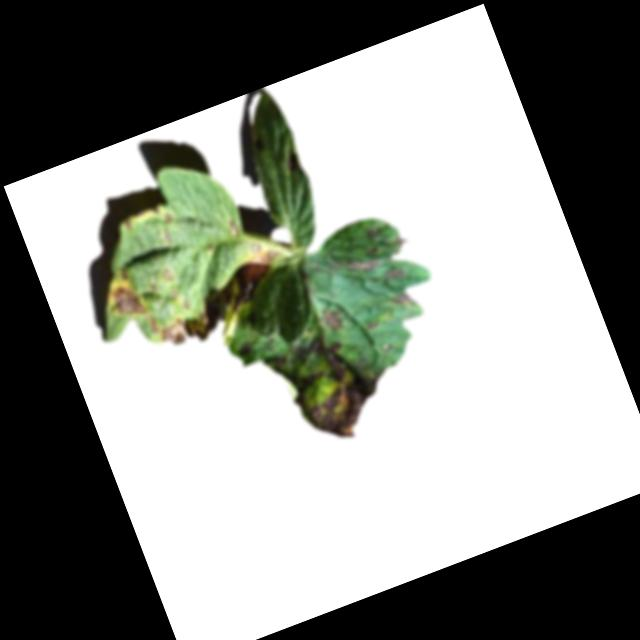Early_blight: (272, 325, 404, 458), (151, 287, 237, 354), (233, 235, 290, 293), (329, 243, 388, 284), (108, 281, 150, 326), (318, 308, 345, 338), (391, 289, 418, 313), (384, 265, 406, 286), (145, 314, 162, 337), (225, 217, 243, 238), (364, 226, 382, 243), (363, 319, 381, 335), (121, 217, 136, 235), (147, 204, 162, 218), (161, 213, 175, 227)
